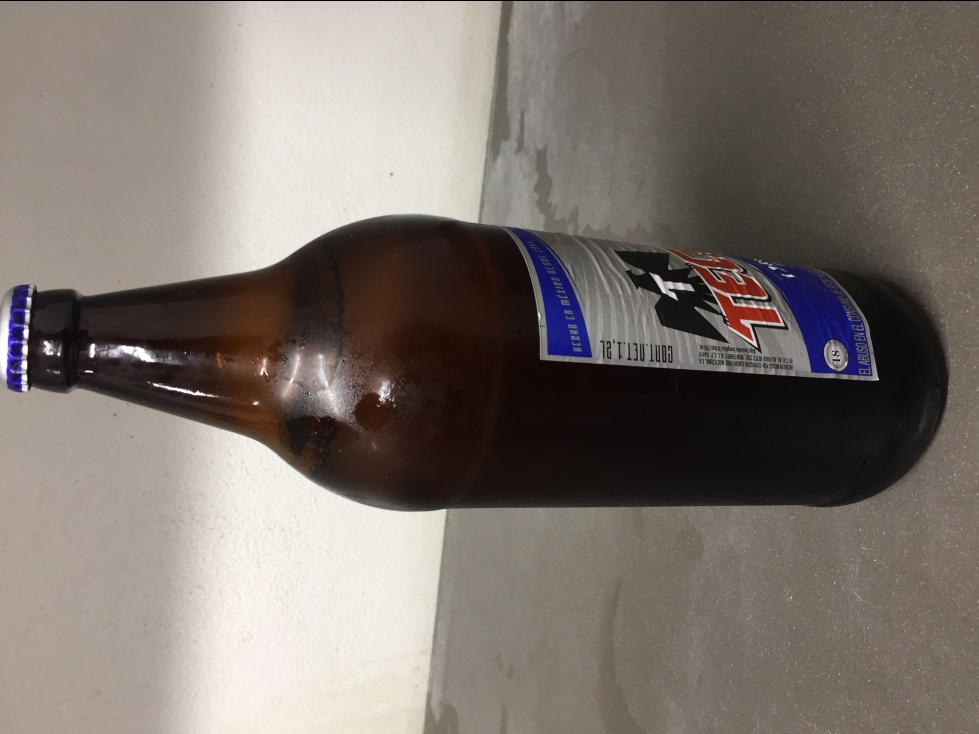tecateC: (2, 215, 952, 509)
